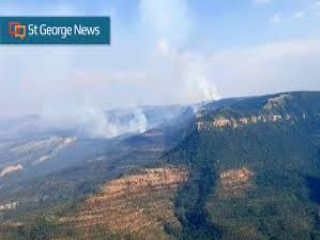smoke: (181, 52, 237, 118), (72, 101, 161, 139)
